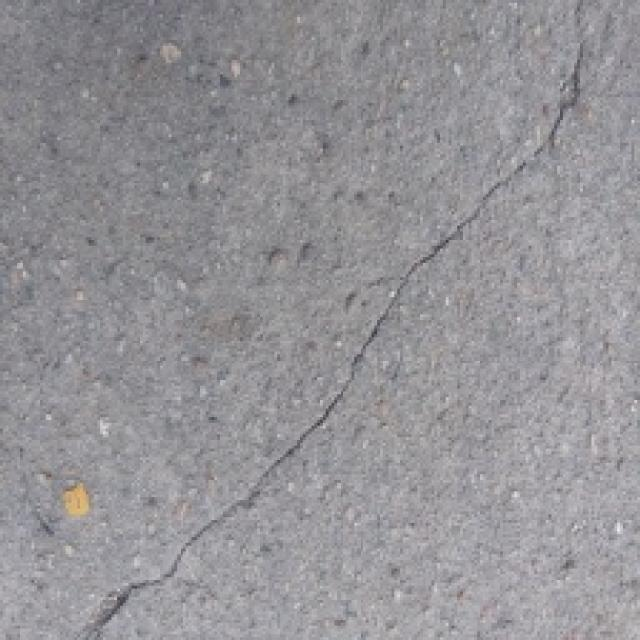crack: (48, 0, 606, 640)
